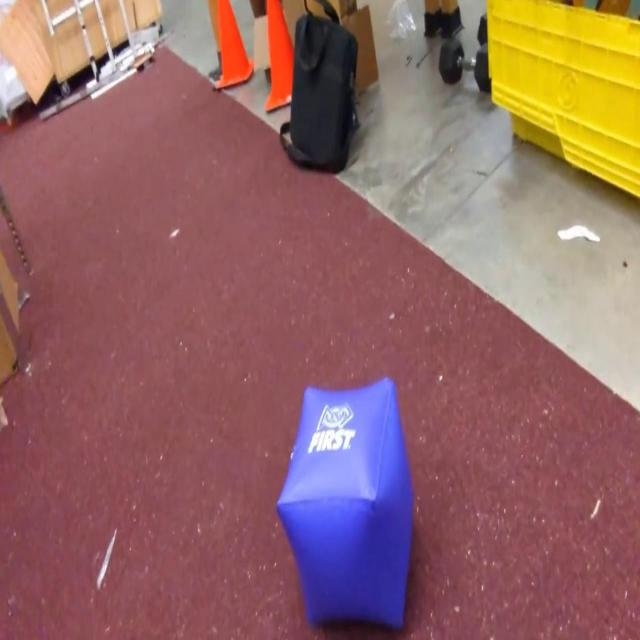frc_cube: (278, 377, 412, 626)
